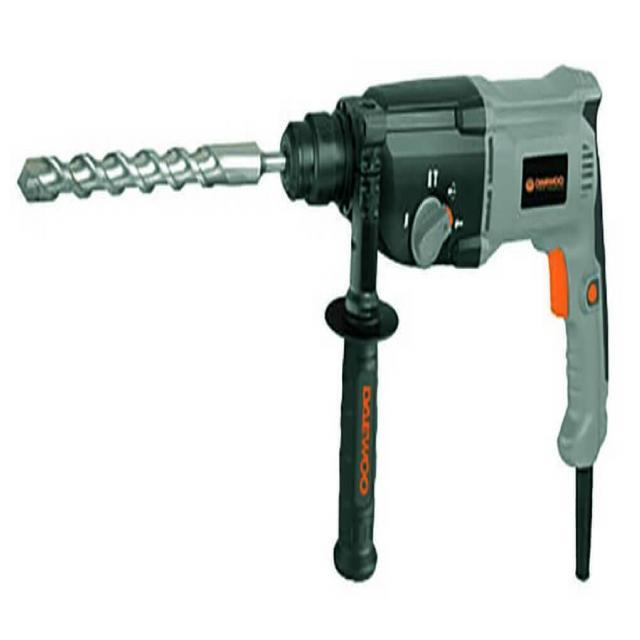drill: (17, 66, 609, 583)
